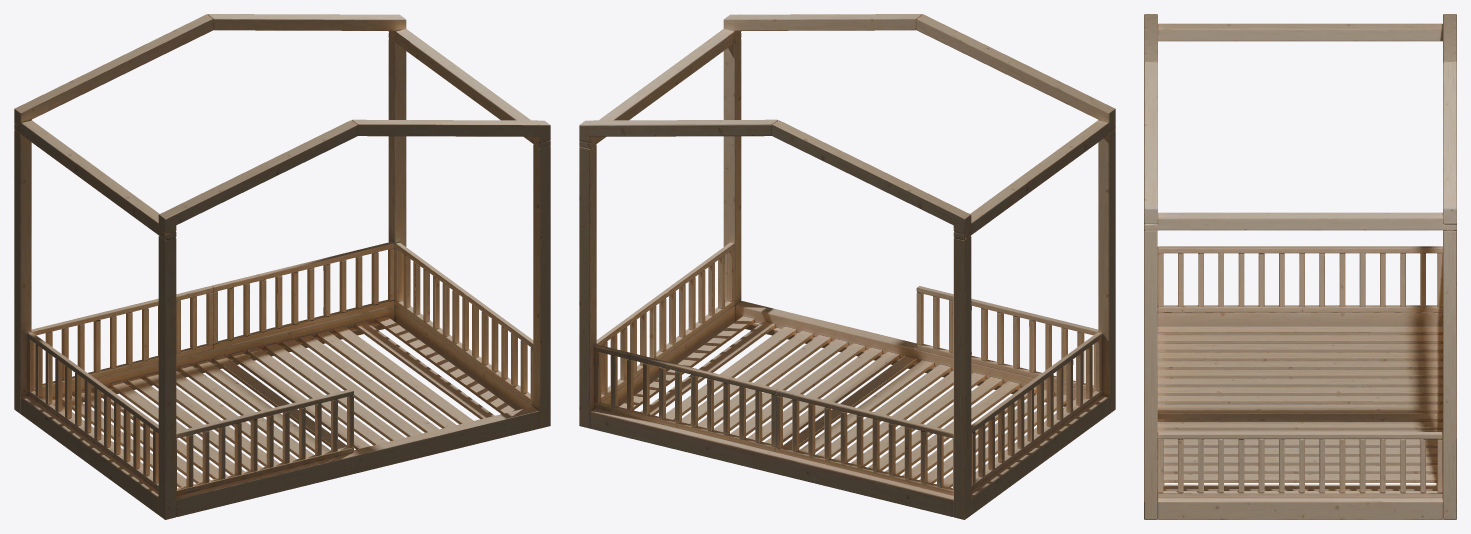
3 renders of one model, left to right at view 1: azimuth 30°, elevation 25°; view 2: azimuth 150°, elevation 25°; view 3: azimuth 270°, elevation 25°, orthographic. The views are drawn at different scales.
Visible parts, largest first — view 1: 200x120; view 2: 200x120; view 3: 200x120.
Part boxes in pixels (box(x1,y1,x2,y2)): 200x120: box(14, 14, 550, 519); 200x120: box(579, 14, 1115, 519); 200x120: box(1144, 14, 1456, 519).
Bounding box in the file's own units: 2.02 × 1.74 × 1.37.
Materials: 1 (1 with a texture image).
